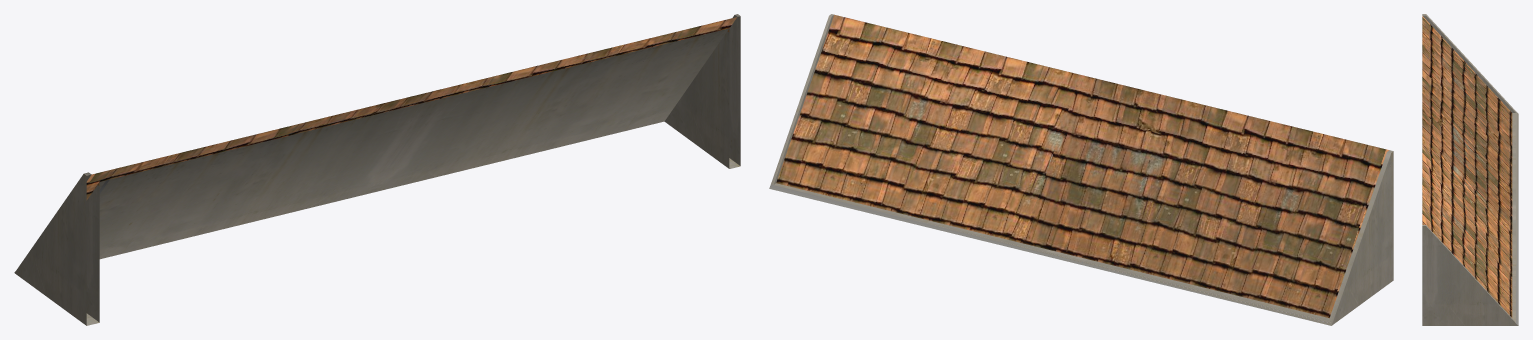
The picture shows the model from 3 angles, left to right: view 1: azimuth 30°, elevation 25°; view 2: azimuth 150°, elevation 25°; view 3: azimuth 270°, elevation 25°; orthographic projection. The views are drawn at different scales.
Visible parts, largest first — view 1: Awn; view 2: Awn; view 3: Awn.
Part boxes in pixels (x1,y1,x2,y2): Awn: [14, 14, 740, 325]; Awn: [769, 14, 1393, 325]; Awn: [1422, 14, 1518, 325].
Bounding box in the file's own units: 1295 × 284 × 249.
